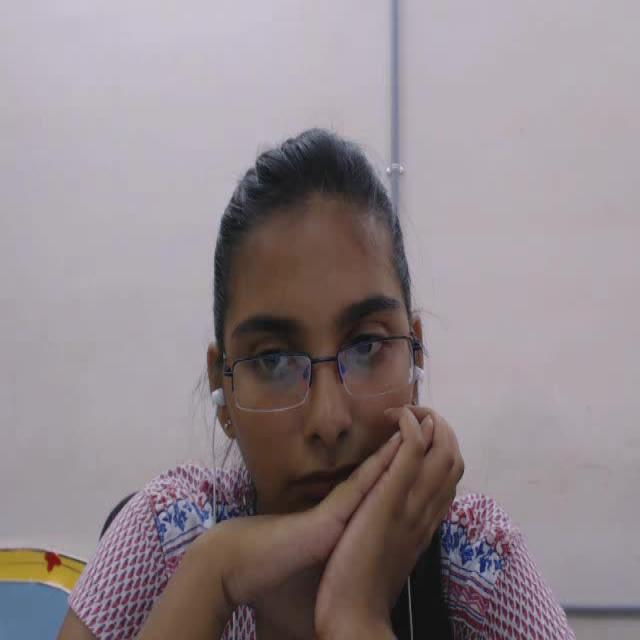Bored: (150, 116, 467, 606)
